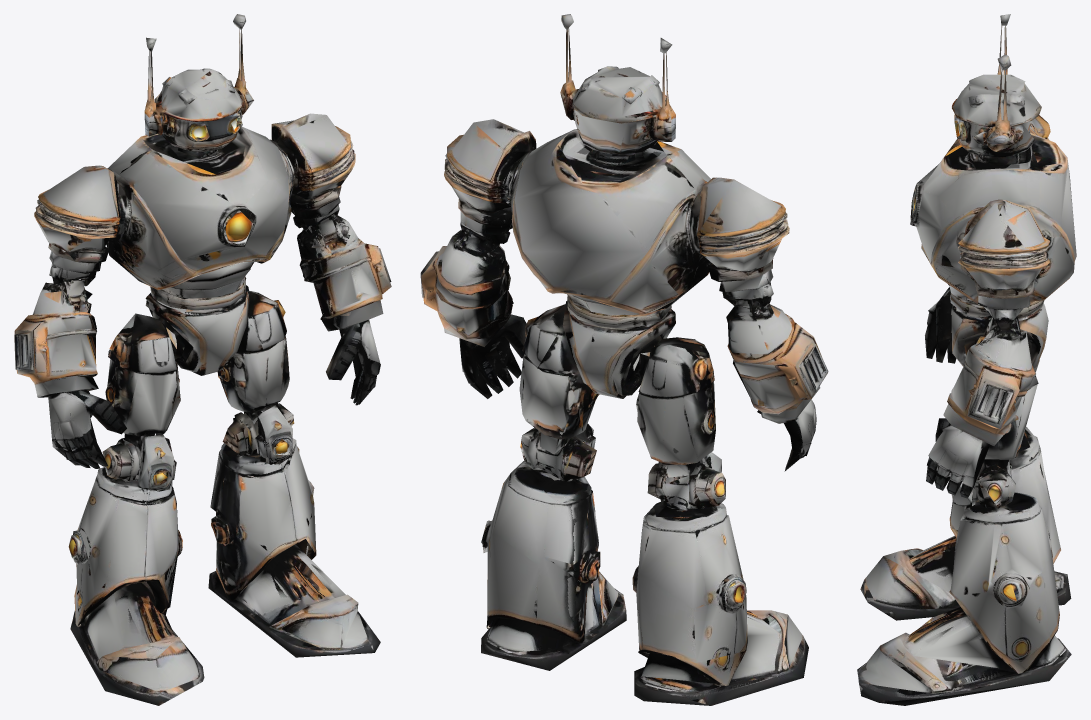
Rendered from atom.glb.
3 views of the same model, side by side, from view 1: azimuth 30°, elevation 25°; view 2: azimuth 150°, elevation 25°; view 3: azimuth 270°, elevation 25° (orthographic). The views are drawn at different scales.
Parts seen in each view (by area): view 1: Object_08, Object_05, Object_10, Object_09, Object_18, Object_13, Object_22, Object_04, Object_21, Object_06, Object_12, Object_03 (+7 smaller); view 2: Object_08, Object_10, Object_09, Object_05, Object_04, Object_22, Object_13, Object_21, Object_06, Object_12, Object_03, Object_18 (+8 smaller); view 3: Object_05, Object_08, Object_10, Object_18, Object_13, Object_21, Object_01, Object_09, Object_03, Object_20, Object_06, Object_02 (+2 smaller).
Part boxes in pixels (x1,y1,x2,y2): Object_08: (106,126,293,289); Object_05: (271,113,391,336); Object_10: (210,438,316,600); Object_09: (74,467,182,626); Object_18: (208,544,380,657); Object_13: (70,582,204,705); Object_22: (14,279,98,397); Object_04: (105,313,180,436); Object_21: (144,51,242,152); Object_06: (217,290,289,420); Object_12: (34,165,120,252); Object_03: (145,285,249,375); Object_08: (509,129,712,314); Object_10: (481,461,600,643); Object_09: (632,502,747,685); Object_05: (420,119,536,346); Object_04: (636,337,715,464); Object_22: (726,300,828,423); Object_13: (634,610,808,705); Object_21: (572,53,675,154); Object_06: (519,304,599,454); Object_12: (696,177,789,271); Object_03: (562,301,675,398); Object_18: (481,571,626,670); Object_05: (943,199,1049,445); Object_08: (910,132,1076,304); Object_10: (949,492,1059,673); Object_18: (857,607,1071,705); Object_13: (860,535,1071,620); Object_21: (952,25,1041,157); Object_01: (926,418,989,498); Object_09: (949,427,1060,563); Object_03: (951,303,1048,368); Object_20: (951,459,1015,508); Object_06: (984,364,1038,474); Object_02: (925,287,956,363).
Size of the model in its own units: 0.6284 by 0.993 by 0.3239.
Materials: 24 (24 with a texture image).
